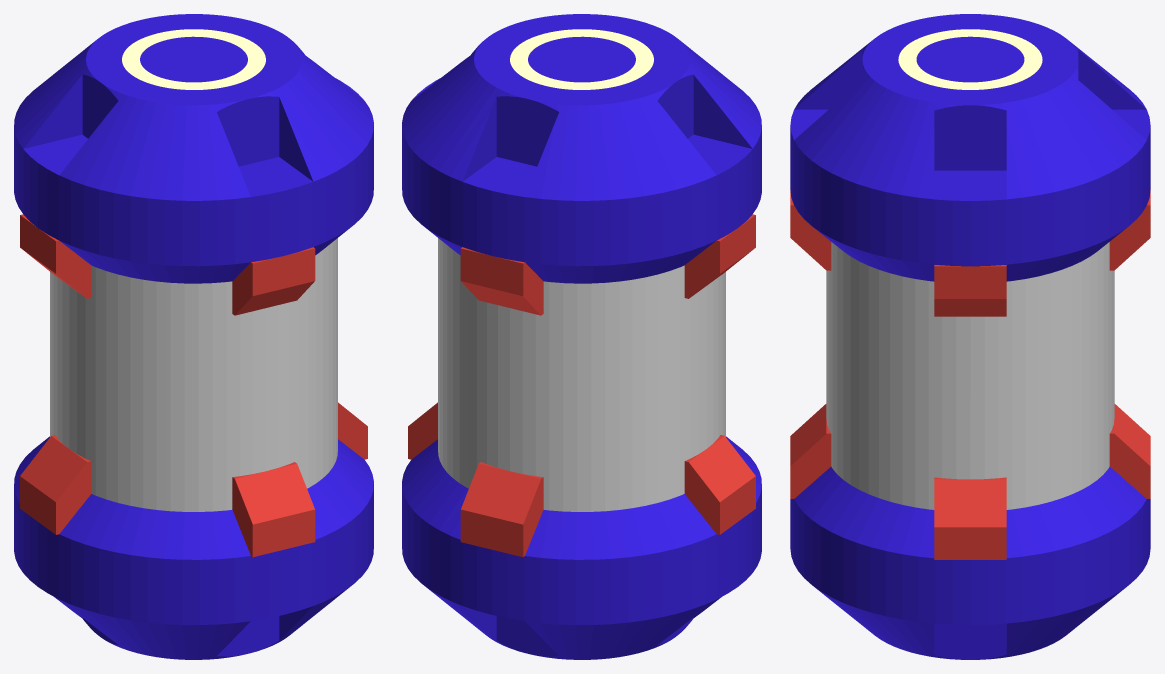
File: PowerCell.fbx
3 renders of one model, left to right at view 1: azimuth 30°, elevation 25°; view 2: azimuth 150°, elevation 25°; view 3: azimuth 270°, elevation 25°, orthographic.
Visible parts, largest first — view 1: mesh_id4, mesh_id7, mesh_id5, mesh_id6; view 2: mesh_id4, mesh_id7, mesh_id5, mesh_id6; view 3: mesh_id4, mesh_id7, mesh_id5, mesh_id6.
Part boxes in pixels (x1,y1,x2,y2): mesh_id4: (14, 14, 373, 659); mesh_id7: (50, 238, 337, 511); mesh_id5: (20, 214, 367, 557); mesh_id6: (122, 29, 265, 89); mesh_id4: (402, 14, 761, 659); mesh_id7: (438, 238, 725, 511); mesh_id5: (408, 214, 755, 557); mesh_id6: (510, 29, 653, 89); mesh_id4: (790, 14, 1150, 659); mesh_id7: (826, 242, 1114, 509); mesh_id5: (790, 190, 1150, 559); mesh_id6: (898, 29, 1042, 89).
Bounding box in the file's own units: 51.2 × 87.04 × 51.2.
